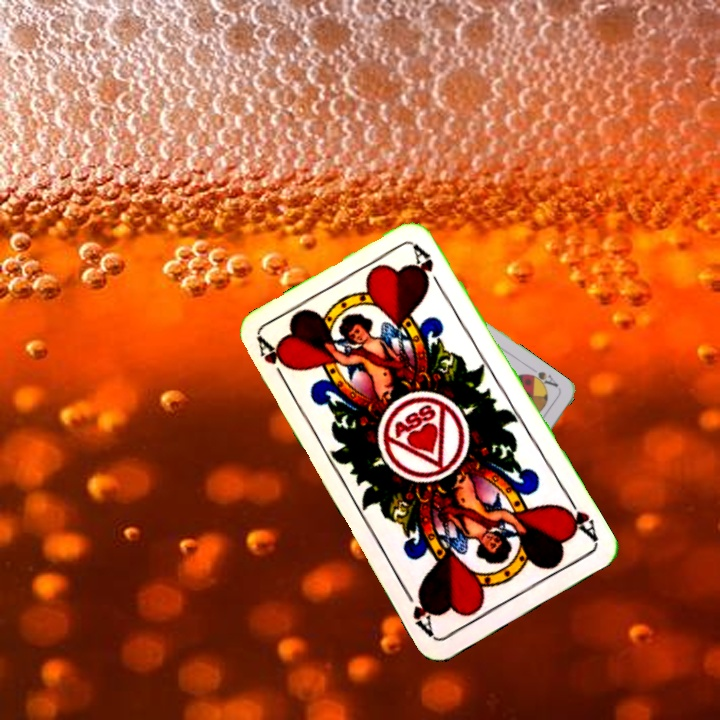HA: (556, 490, 601, 544), (253, 333, 291, 388)
SA: (523, 367, 561, 391)
